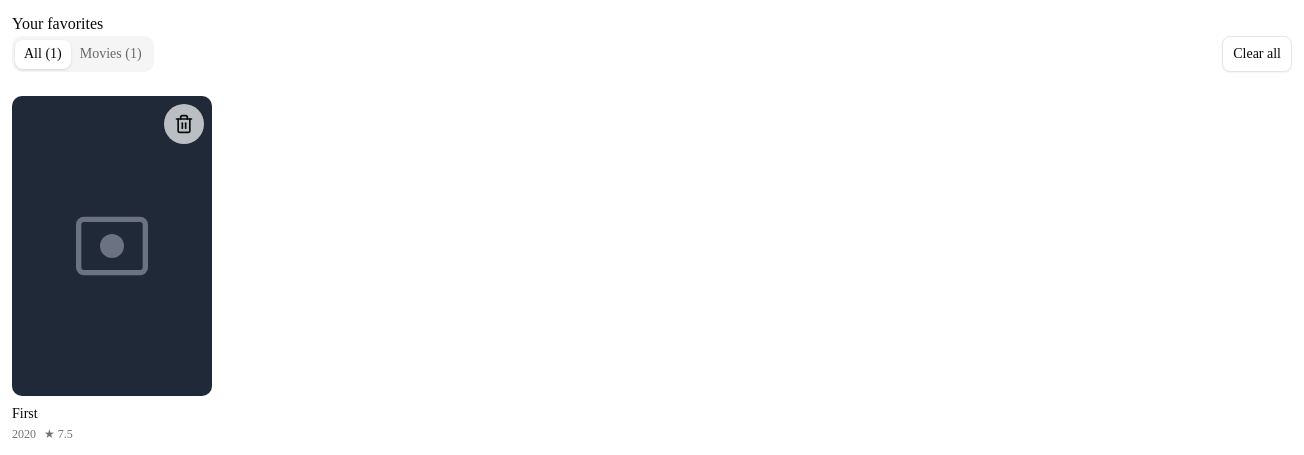
FavoritesView › removing an item › focuses the heading when the list becomes empty
The width and height of the screenshot is (1304, 455).
Click the button named "Remove First from favorites": (184, 124) [164,104,204,144]
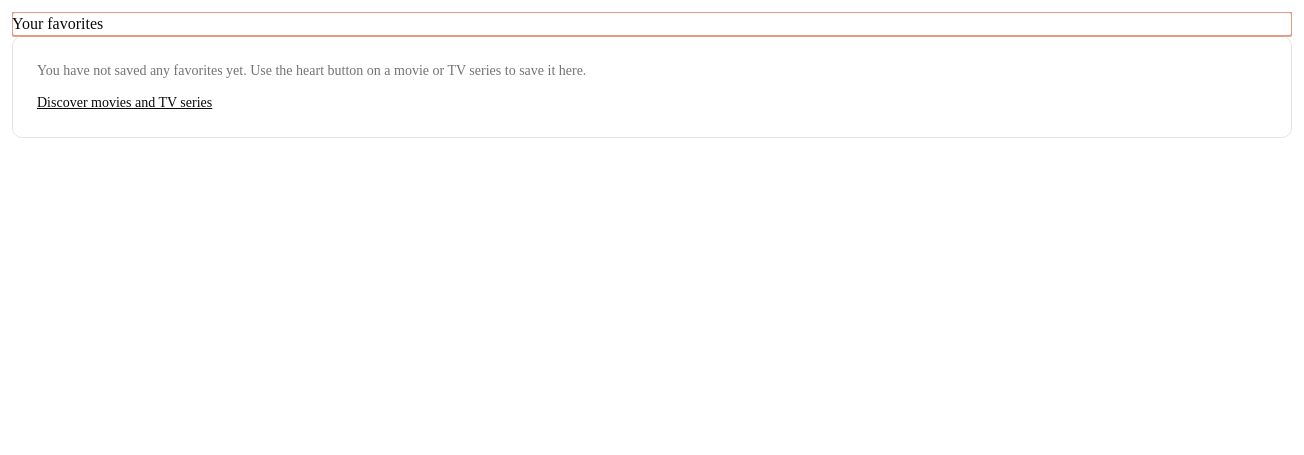
Check: the link "Discover movies and TV series" is shown, box [37,93,212,113]
